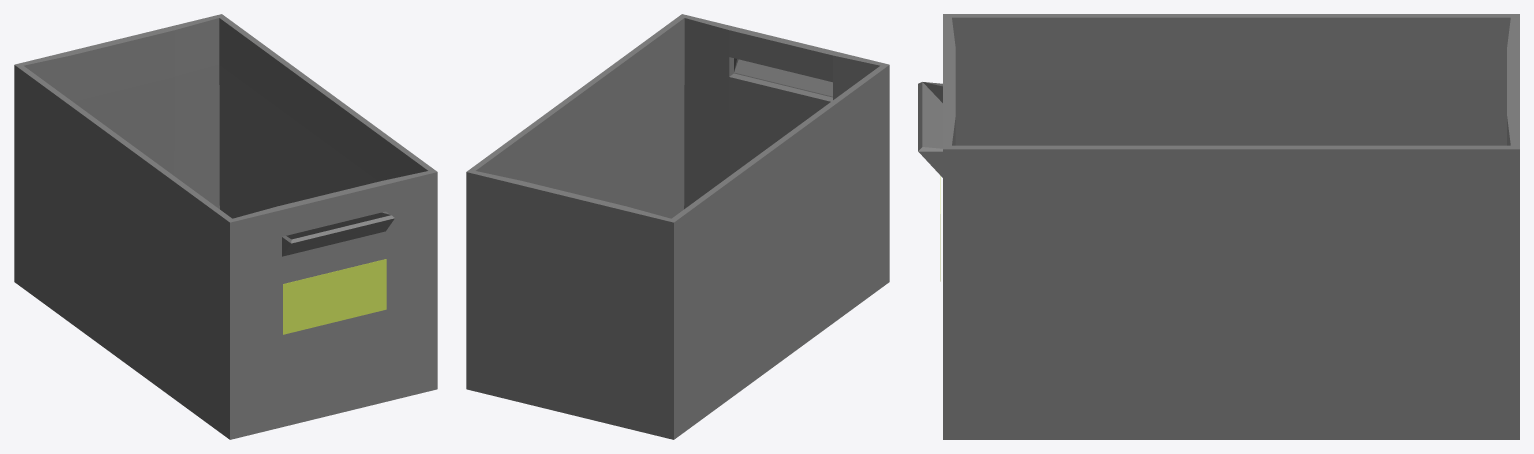
The model's file is case.fbx.
3 views of the same model, side by side, from view 1: azimuth 30°, elevation 25°; view 2: azimuth 150°, elevation 25°; view 3: azimuth 270°, elevation 25° (orthographic). The views are drawn at different scales.
Visible parts, largest first — view 1: base, plane, handle; view 2: base, handle; view 3: base, handle.
Boxes of the visible parts, x1=… form: base: x1=14, y1=14, x2=437, y2=439; plane: x1=283, y1=259, x2=386, y2=334; handle: x1=282, y1=211, x2=394, y2=256; base: x1=466, y1=14, x2=889, y2=439; handle: x1=734, y1=58, x2=832, y2=97; base: x1=943, y1=14, x2=1519, y2=439; handle: x1=918, y1=82, x2=942, y2=177.
Bounding box in the file's own units: 50 × 50 × 93.86.
